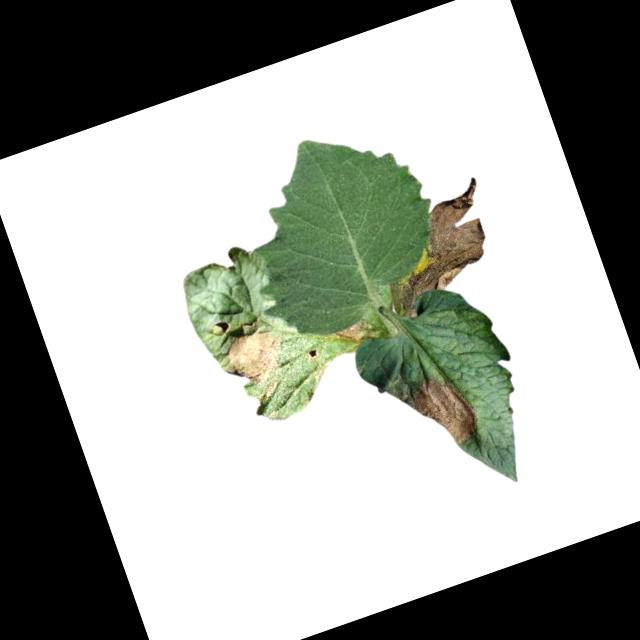Late_blight: (362, 178, 512, 323), (394, 364, 485, 459), (220, 318, 295, 392), (335, 318, 371, 347)
healthy: (214, 106, 460, 352)
